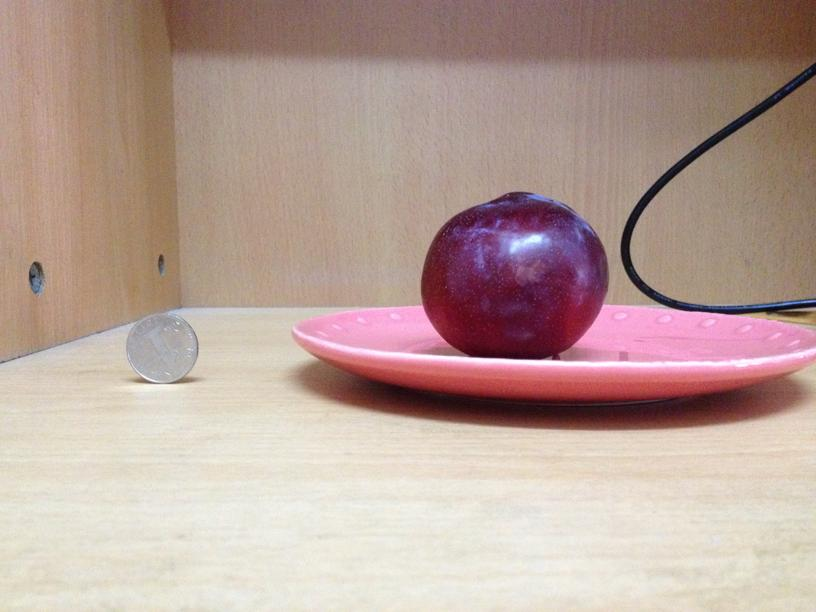coin: (124, 315, 198, 382)
plum: (418, 190, 610, 357)
